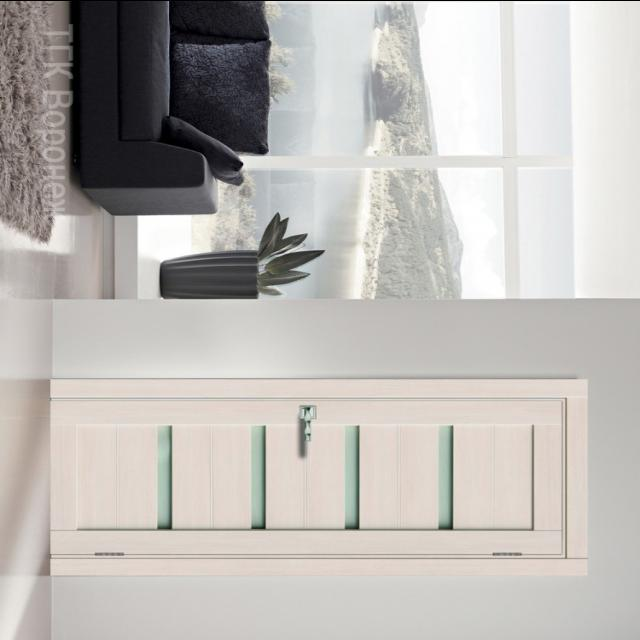close: (32, 380, 586, 574)
